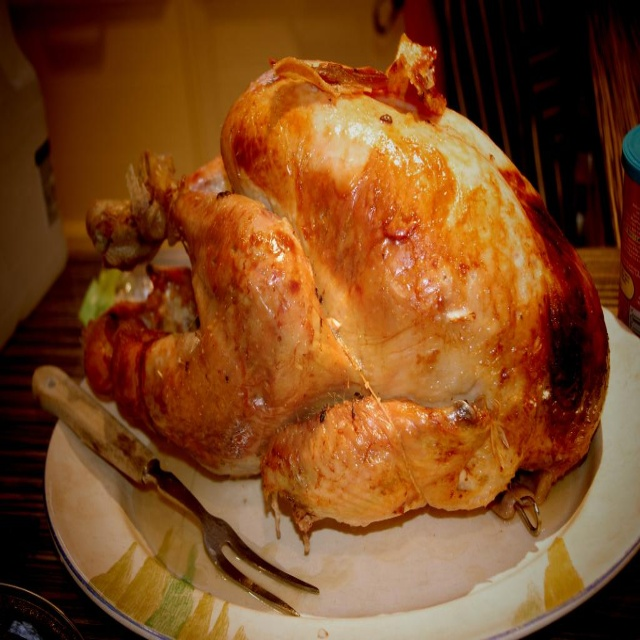Turkey: (80, 30, 611, 555)
